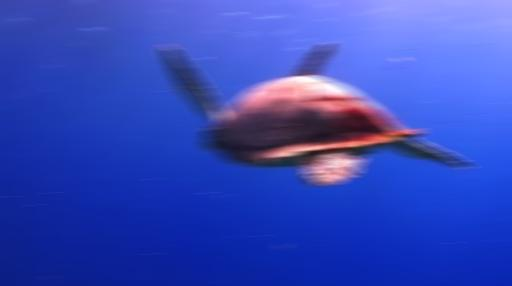Fish: (162, 43, 469, 185)
